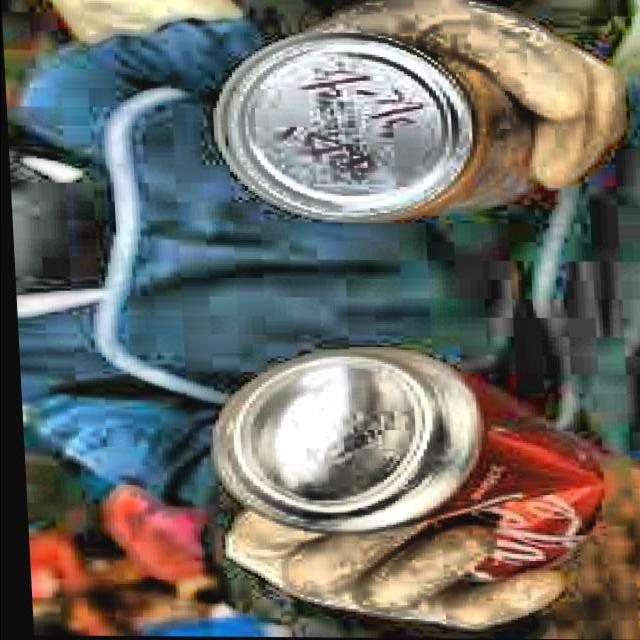litter: (193, 341, 624, 596), (196, 26, 581, 230)
